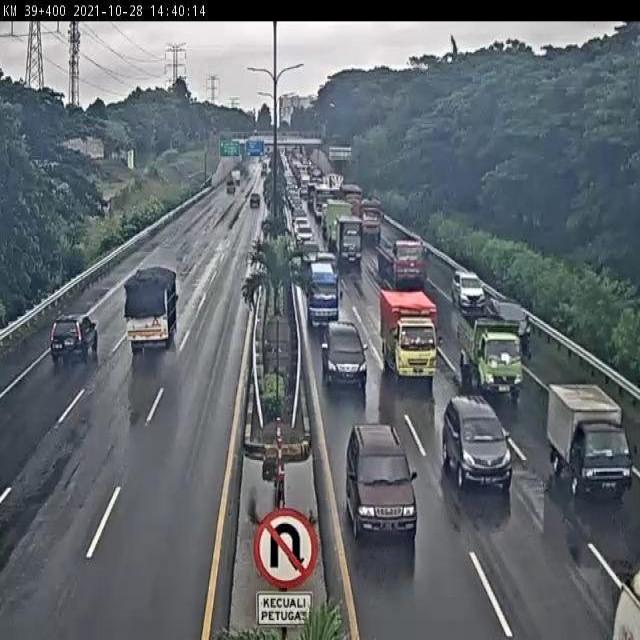bus-s-: (305, 257, 340, 324)
car: (342, 416, 420, 535), (442, 391, 514, 485), (321, 316, 367, 384), (49, 311, 101, 358), (488, 293, 532, 343), (450, 265, 486, 308), (300, 238, 322, 266), (317, 249, 337, 275)
small truck: (123, 262, 180, 350)
truck-m-: (380, 284, 441, 383), (457, 305, 524, 395), (336, 213, 363, 264)
truck-s-: (547, 377, 637, 495)
truck-xl-: (376, 230, 430, 286)
